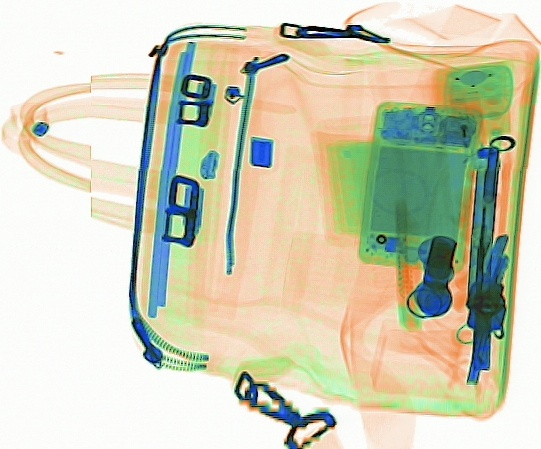lighter: (445, 75, 492, 169)
